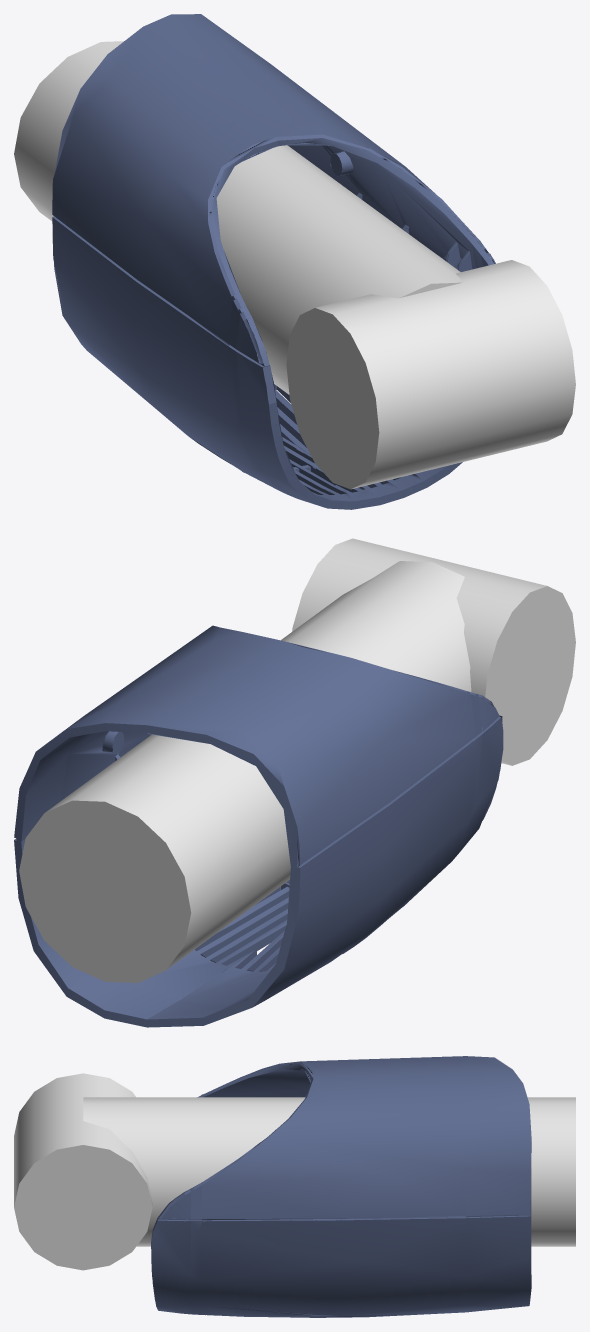
The model's file is icub_r_upper_leg.glb.
The picture shows the model from 3 angles, top to bottom: view 1: azimuth 30°, elevation 25°; view 2: azimuth 150°, elevation 25°; view 3: azimuth 270°, elevation 25°; orthographic projection. The views are drawn at different scales.
Visible parts, largest first — view 1: r_upperleg_mesh.001, r_thigh_cyl2_mesh, r_thigh_cyl1_mesh, r_upperleg_mesh, r_thigh_cyl2_mesh.001; view 2: r_thigh_cyl1_mesh, r_upperleg_mesh.001, r_upperleg_mesh, r_thigh_cyl2_mesh.001, r_thigh_cyl2_mesh; view 3: r_upperleg_mesh.001, r_upperleg_mesh, r_thigh_cyl1_mesh, r_thigh_cyl2_mesh.001, r_thigh_cyl2_mesh.
Boxes of the visible parts, left/top/right/bottom form: r_upperleg_mesh.001: left=52, top=14, right=495, bottom=366; r_thigh_cyl2_mesh: left=315, top=260, right=575, bottom=489; r_thigh_cyl1_mesh: left=14, top=41, right=463, bottom=394; r_upperleg_mesh: left=52, top=216, right=462, bottom=509; r_thigh_cyl2_mesh.001: left=286, top=308, right=379, bottom=489; r_thigh_cyl1_mesh: left=19, top=561, right=471, bottom=982; r_upperleg_mesh.001: left=14, top=625, right=499, bottom=867; r_upperleg_mesh: left=14, top=715, right=503, bottom=1027; r_thigh_cyl2_mesh.001: left=485, top=586, right=575, bottom=765; r_thigh_cyl2_mesh: left=292, top=538, right=546, bottom=765; r_upperleg_mesh.001: left=157, top=1056, right=531, bottom=1221; r_upperleg_mesh: left=151, top=1214, right=531, bottom=1317; r_thigh_cyl1_mesh: left=83, top=1097, right=575, bottom=1246; r_thigh_cyl2_mesh.001: left=14, top=1145, right=152, bottom=1270; r_thigh_cyl2_mesh: left=14, top=1073, right=152, bottom=1206.
Bounding box in the file's own units: 0.1029 × 0.1178 × 0.2555.
